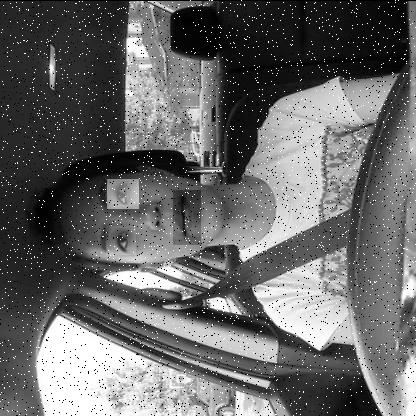seatbelt: (23, 142, 346, 286)
